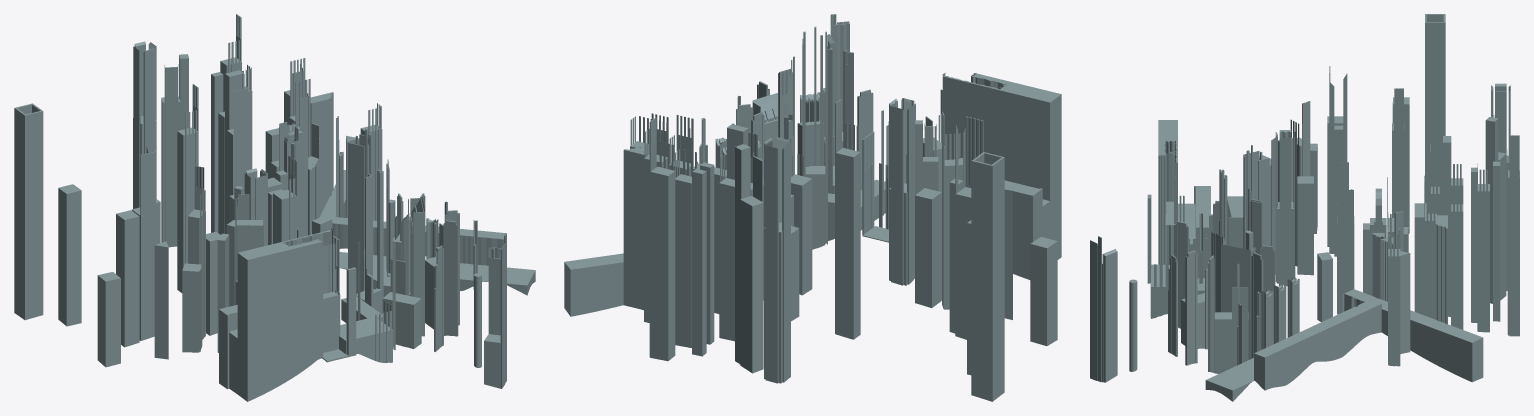
The model's file is skyway-foundation.glb.
The picture shows the model from 3 angles, left to right: view 1: azimuth 30°, elevation 25°; view 2: azimuth 150°, elevation 25°; view 3: azimuth 270°, elevation 25°; orthographic projection. The views are drawn at different scales.
Parts seen in each view (by area): view 1: Underside-fitted structural foundation; view 2: Underside-fitted structural foundation; view 3: Underside-fitted structural foundation.
Boxes of the visible parts, box(x1,y1,x2,y2) form: Underside-fitted structural foundation: box(14, 14, 535, 401); Underside-fitted structural foundation: box(564, 14, 1061, 401); Underside-fitted structural foundation: box(1090, 14, 1519, 401).
Bounding box in the file's own units: 2000 × 1045 × 1843.
